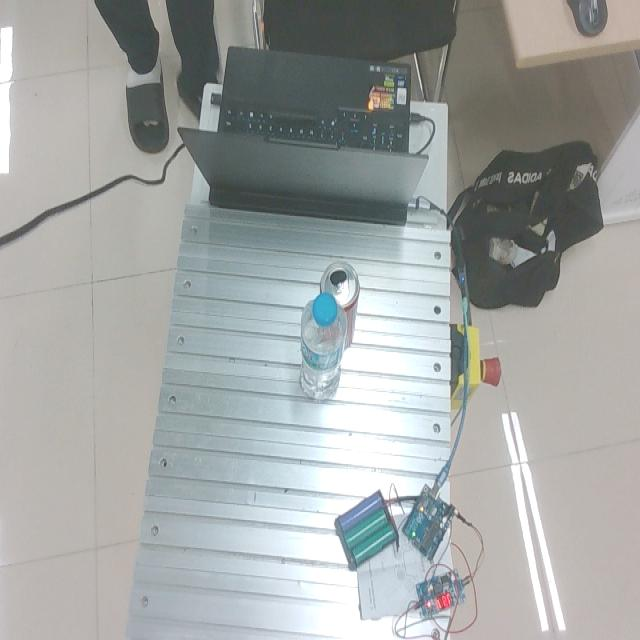coca: (320, 260, 361, 352)
lavie: (299, 291, 348, 400)
